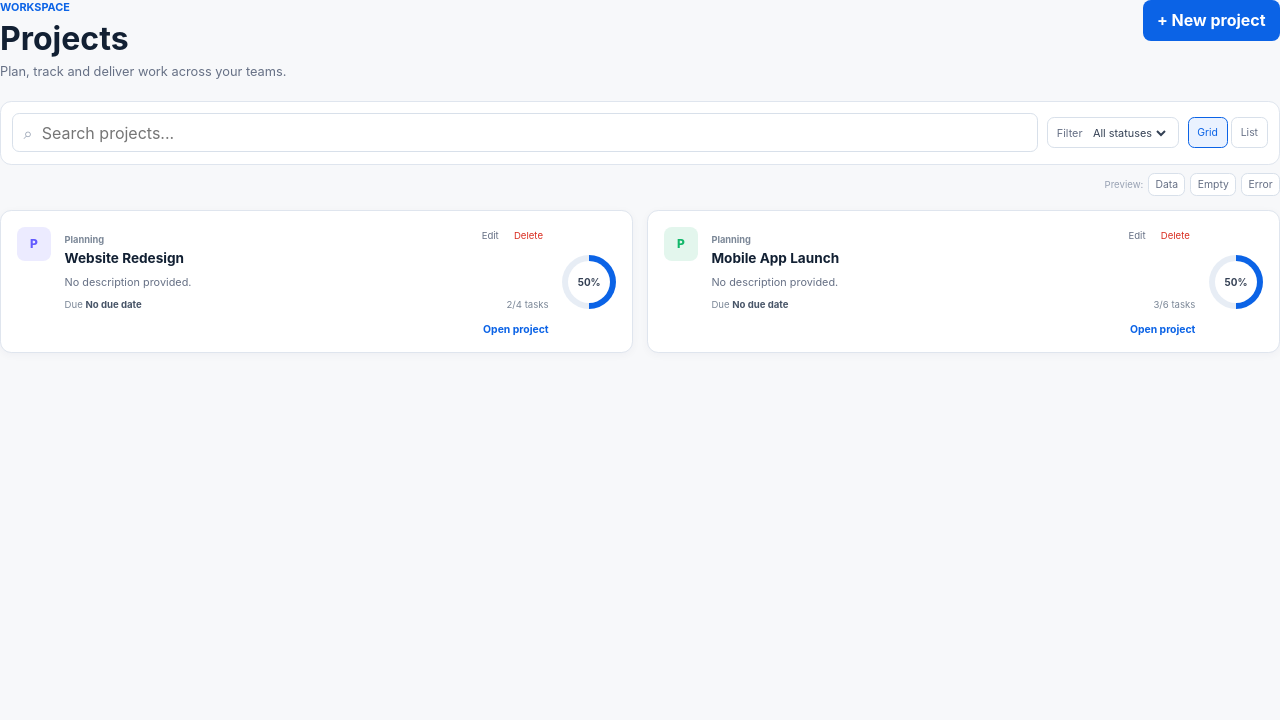
project filtering › opens the create project dialog for a permitted user
This screenshot has width=1280, height=720.
Check: the heading "Website Redesign" is shown, box [65,250,184,266]
Click the button "+ New project".
click(1211, 20)  # box [1142,0,1279,41]
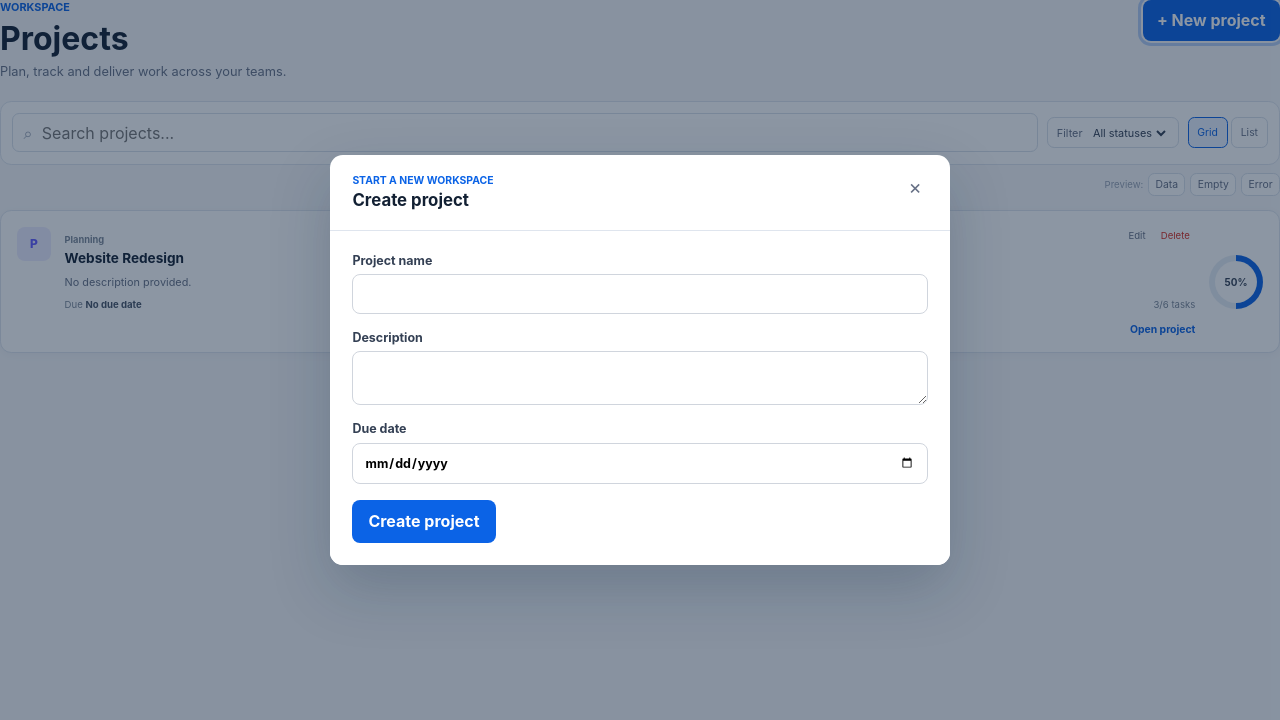
Check: the dialog "Create project" is shown, box [330,155,950,565]
